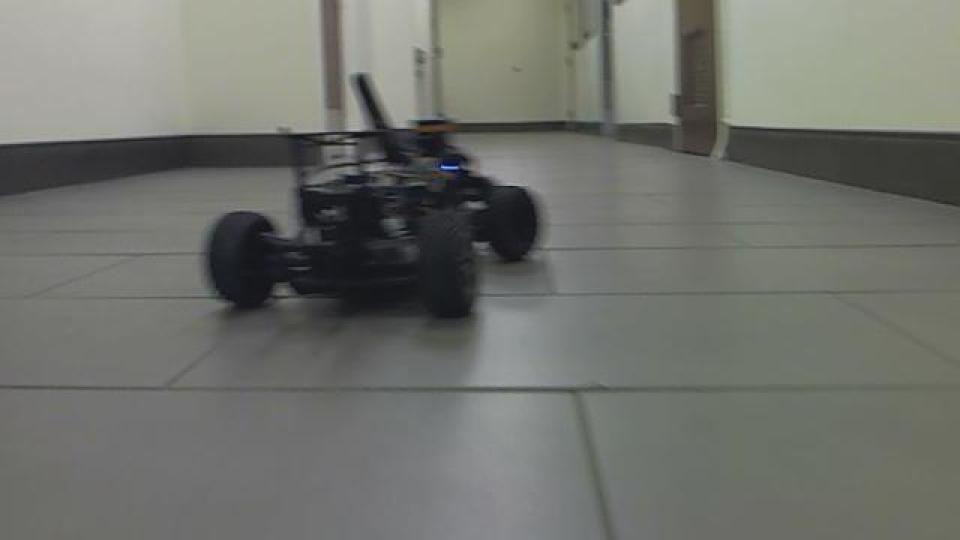car: (201, 69, 541, 321)
